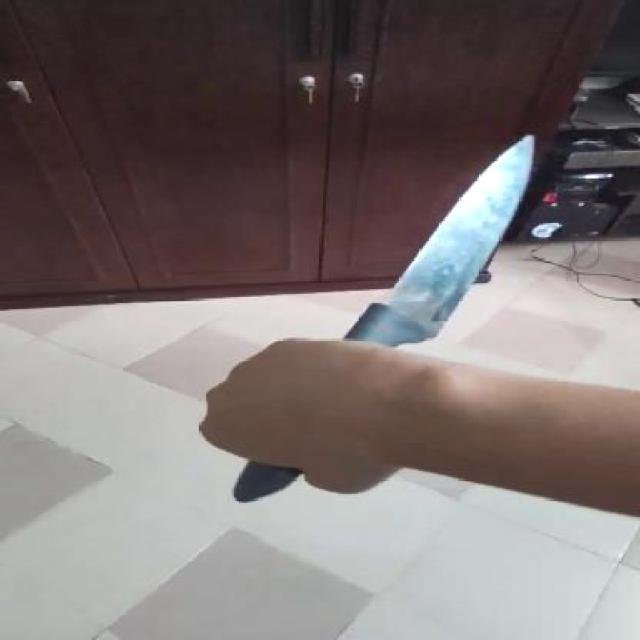knife: (348, 139, 552, 346)
